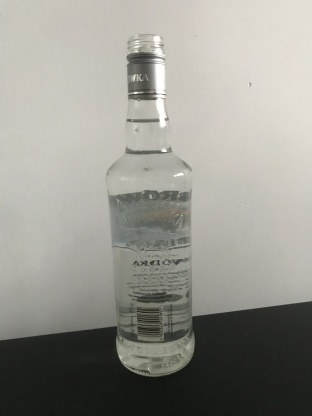nakretka: (124, 31, 168, 101)
